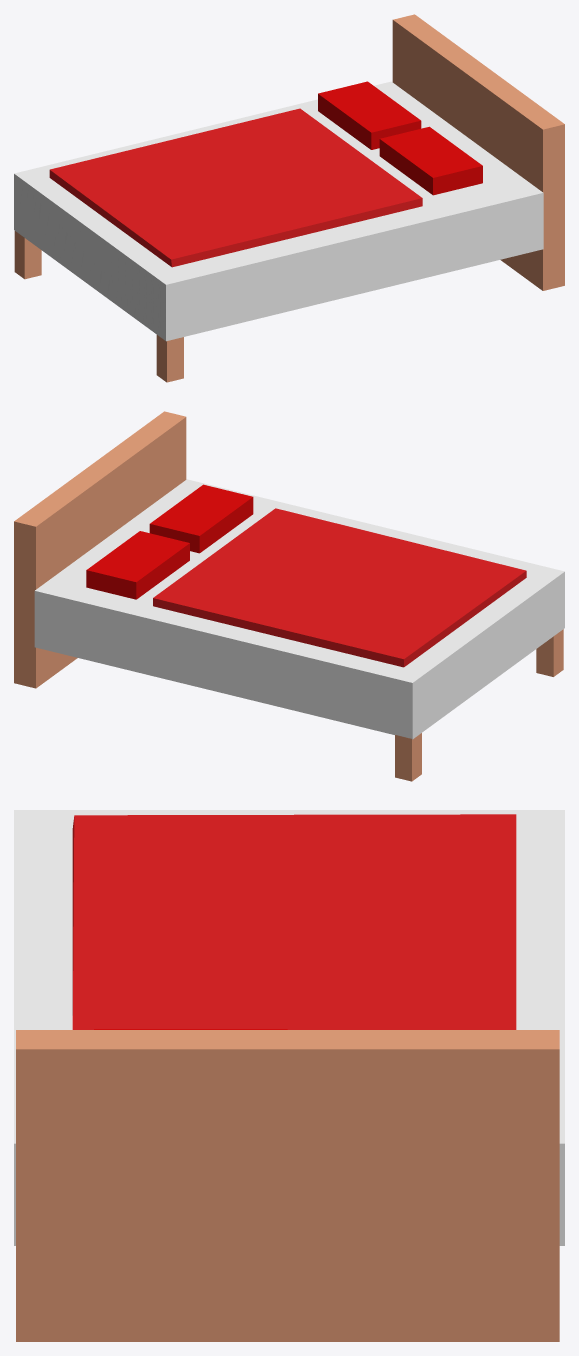
The model's file is Bett.fbx.
The picture shows the model from 3 angles, top to bottom: view 1: azimuth 30°, elevation 25°; view 2: azimuth 150°, elevation 25°; view 3: azimuth 270°, elevation 25°; orthographic projection. The views are drawn at different scales.
Visible parts, largest first — view 1: Würfel, Würfel.002, Würfel.008, Würfel.007, Würfel.006, Würfel.004, Würfel.005; view 2: Würfel, Würfel.002, Würfel.008, Würfel.006, Würfel.007, Würfel.005, Würfel.004; view 3: Würfel.008, Würfel.002, Würfel.
Boxes of the visible parts, box(x1,y1,x2,y2) form: Würfel: box(14, 81, 543, 341); Würfel.002: box(49, 108, 422, 267); Würfel.008: box(392, 14, 564, 290); Würfel.007: box(379, 126, 482, 195); Würfel.006: box(318, 81, 421, 149); Würfel.004: box(156, 335, 183, 382); Würfel.005: box(14, 231, 41, 279); Würfel: box(34, 479, 564, 739); Würfel.002: box(153, 508, 526, 667); Würfel.008: box(14, 411, 186, 688); Würfel.006: box(86, 531, 189, 599); Würfel.007: box(149, 484, 253, 553); Würfel.005: box(395, 733, 421, 781); Würfel.004: box(536, 629, 563, 676); Würfel.008: box(16, 1030, 559, 1341); Würfel.002: box(72, 814, 516, 1029); Würfel: box(14, 810, 564, 1245).
Size of the model in its own units: 1847 by 714 by 1219.
